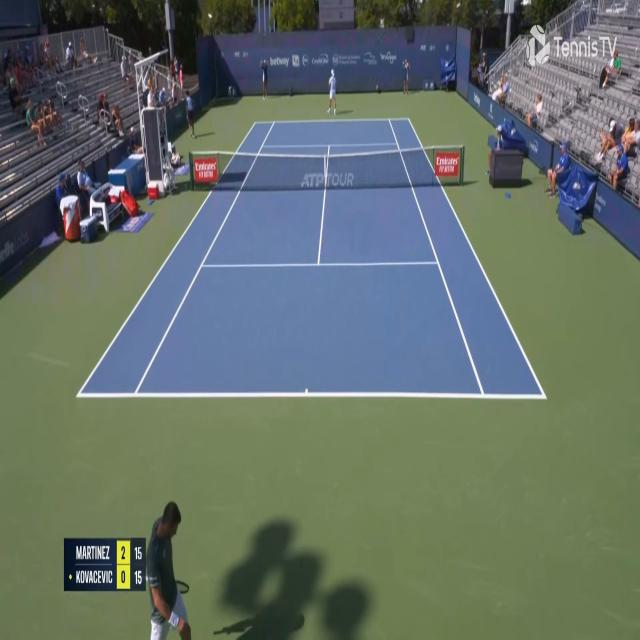tennis-player: (144, 494, 195, 640), (327, 68, 338, 116)
